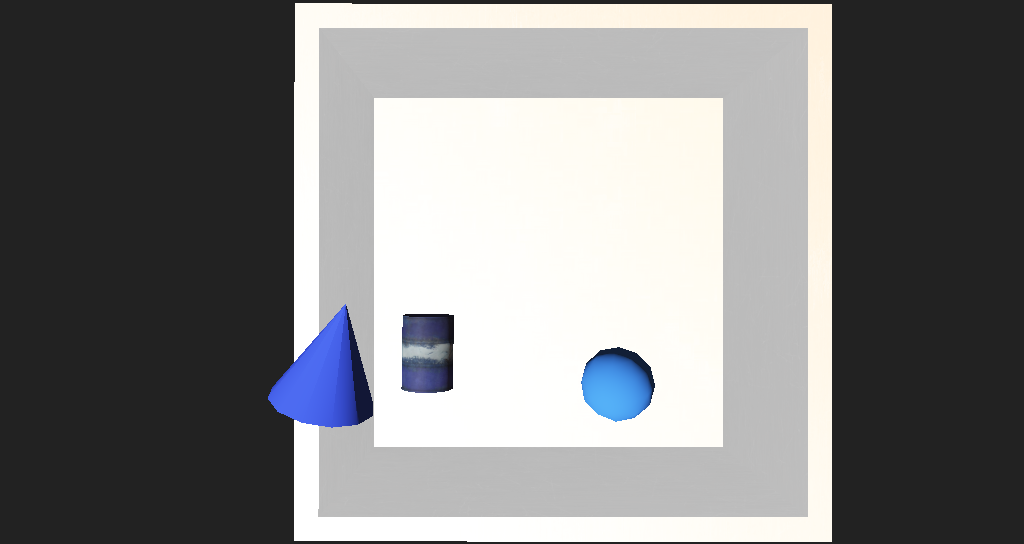cone: (371, 291, 424, 339)
cylinder: (229, 274, 391, 365)
sphere: (536, 317, 596, 360)
